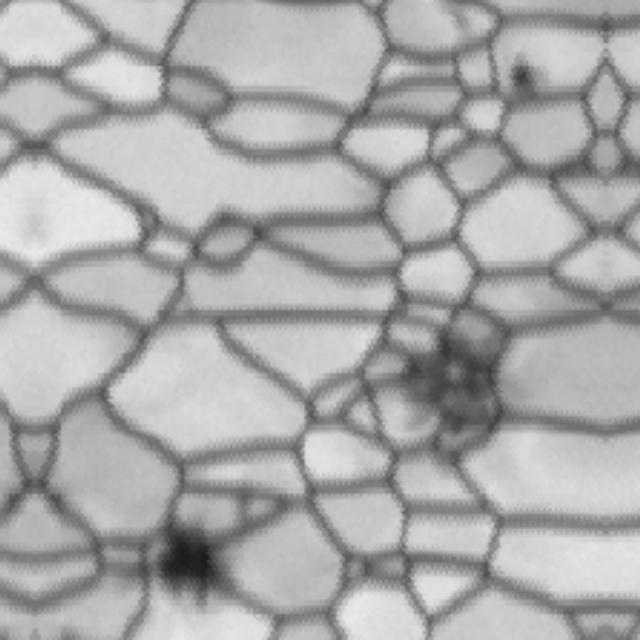good_void: (382, 314, 521, 475), (139, 503, 237, 619), (500, 44, 540, 95)
